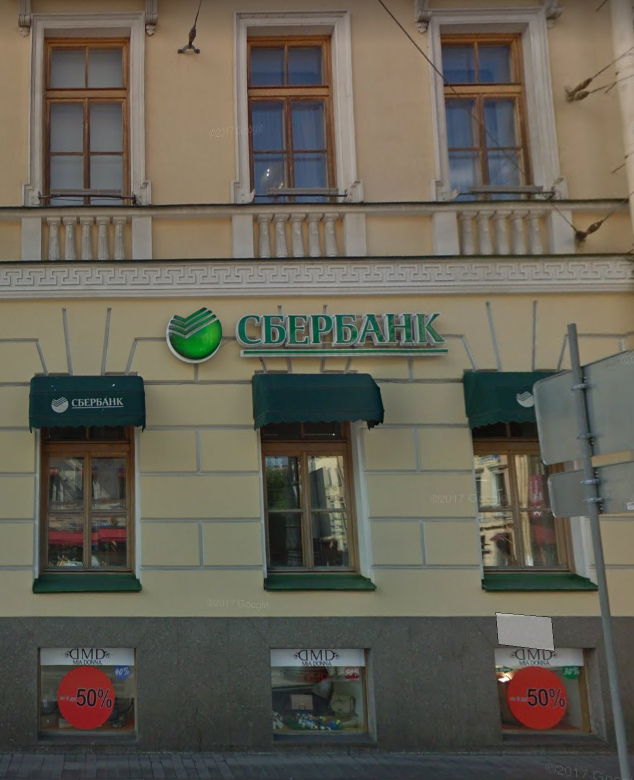signboard: (157, 297, 448, 356)
window: (436, 15, 538, 201), (245, 25, 336, 199), (42, 24, 130, 201), (473, 432, 576, 578), (264, 430, 353, 578), (45, 422, 127, 567)
